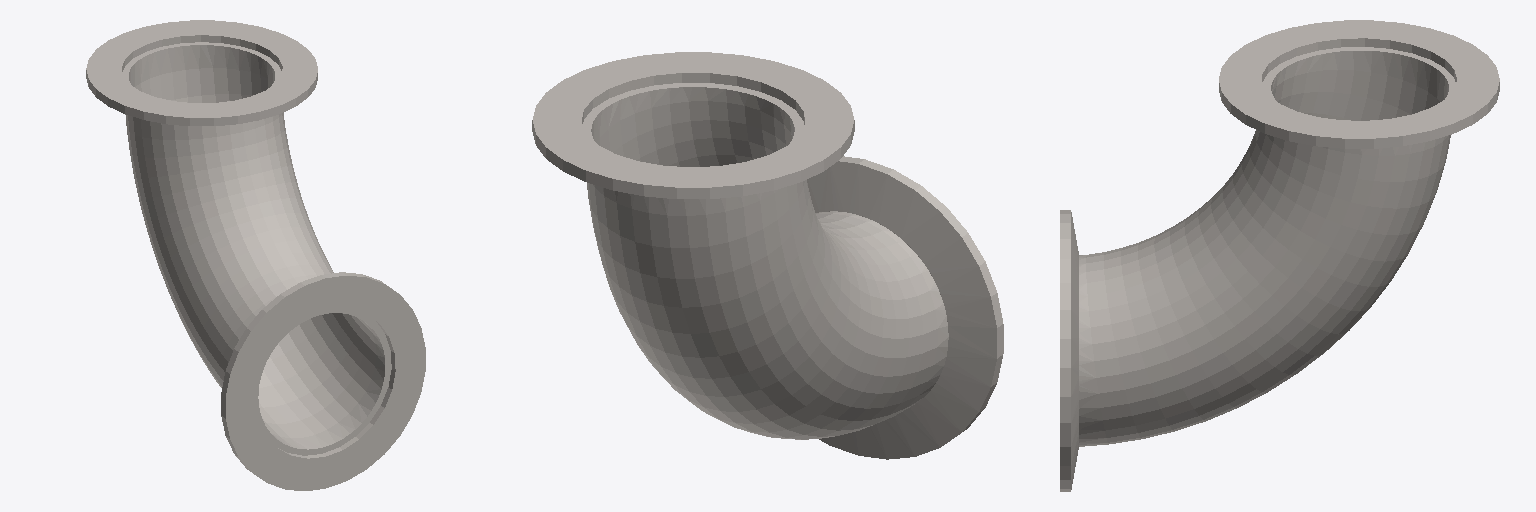
robot.urdf — P101223:
<robot
  name="P101223">
  <link
    name="P101223">
    <inertial>
      <origin
        xyz="3.5436E-07 0.049285 0.049285"
        rpy="0 0 0" />
      <mass
        value="0.4164" />
      <inertia
        ixx="0.00096351196272473"
        ixy="7.36170006114099E-10"
        ixz="-2.33259479550071E-09"
        iyy="0.000637322444502945"
        iyz="0.000336461286360461"
        izz="0.000637320159012181" />
    </inertial>
    <visual>
      <origin
        xyz="1.5707963267949 0 0"
        rpy="0 0 0" />
      <geometry>
        <mesh
          filename="package://P101223/meshes/P101223.STL" />
      </geometry>
      <material
        name="">
        <color
          rgba="0.77647 0.75686 0.73725 1" />
      </material>
    </visual>
    <collision>
      <origin
        xyz="0 0 0"
        rpy="1.5707963267949 0 0" />
      <geometry>
        <mesh
          filename="package://P101223/meshes/P101223.STL" />
      </geometry>
    </collision>
  </link>
</robot>

--- Facts derived from the render (not from the file) ---
Views: 3 orthographic renders of the robot side by side, from view 1: azimuth 30°, elevation 25°; view 2: azimuth 150°, elevation 25°; view 3: azimuth 270°, elevation 25°.
Robot: P101223 — 1 links, 0 joints (none); root link P101223; default pose: every joint at zero.
Links seen in each view (by area): view 1: P101223; view 2: P101223; view 3: P101223.
Link boxes in pixels (x1,y1,x2,y2): P101223: (86, 20, 425, 490); P101223: (532, 52, 1003, 459); P101223: (1060, 20, 1499, 491).
Size in the robot's own frame: 0.0746 by 0.1173 by 0.1173 metres.
Meshes: 1 distinct files referenced, 1 mesh visuals loaded (1 binary STL).